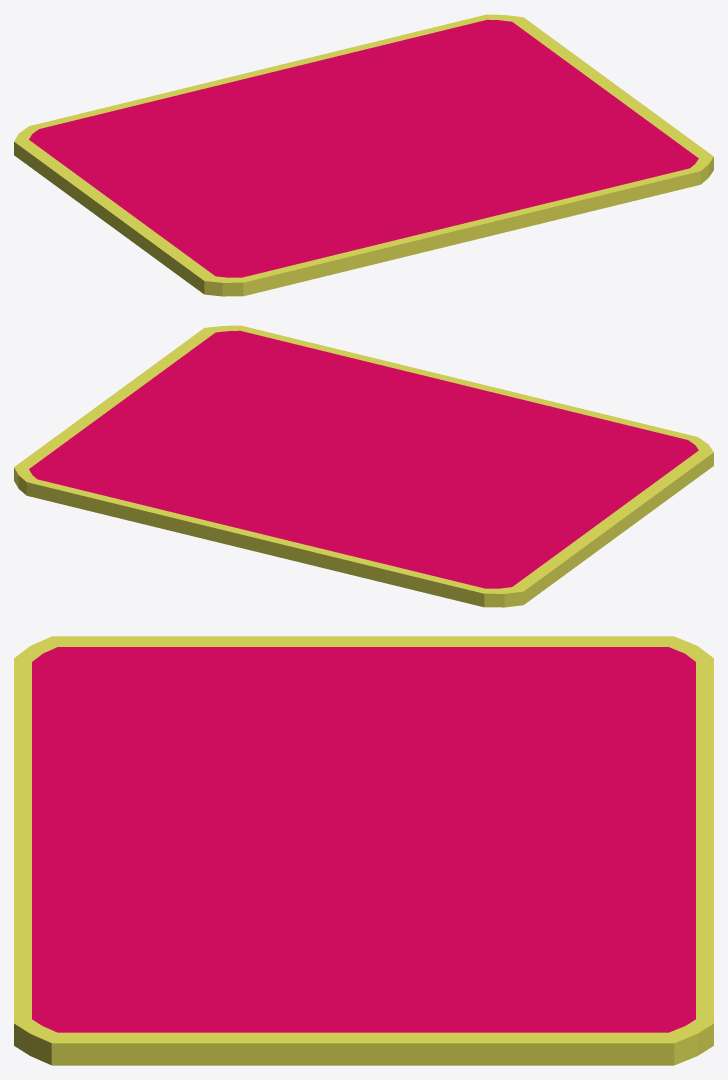
Rendered from GGJ-LunchboxLid.fbx.
3 renders of one model, top to bottom at view 1: azimuth 30°, elevation 25°; view 2: azimuth 150°, elevation 25°; view 3: azimuth 270°, elevation 25°, orthographic. The views are drawn at different scales.
Visible parts, largest first — view 1: LunchboxLid; view 2: LunchboxLid; view 3: LunchboxLid.
Boxes of the visible parts, box(x1,y1,x2,y2) form: LunchboxLid: box(14, 14, 713, 296); LunchboxLid: box(14, 325, 713, 607); LunchboxLid: box(14, 636, 713, 1065).
Bounding box in the file's own units: 52.76 × 72.55 × 1.85.
